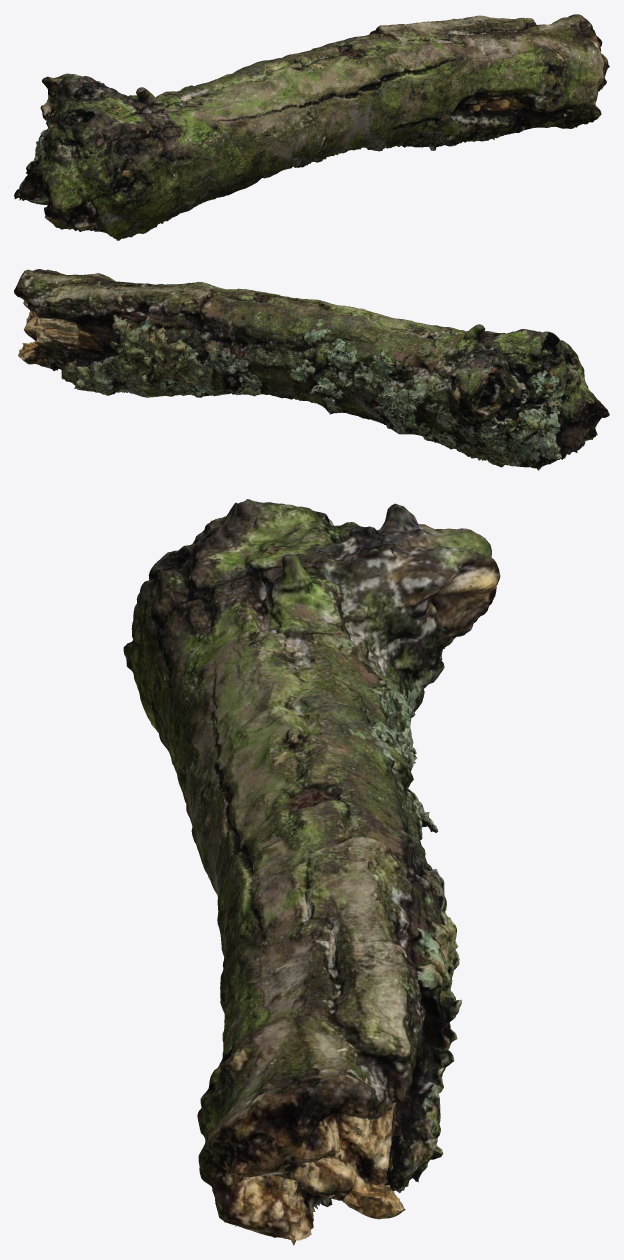
The model's file is branchbroken.glb.
3 views of the same model, one above another, from view 1: azimuth 30°, elevation 25°; view 2: azimuth 150°, elevation 25°; view 3: azimuth 270°, elevation 25° (orthographic). The views are drawn at different scales.
Visible parts, largest first — view 1: Object_2; view 2: Object_2; view 3: Object_2.
Boxes of the visible parts, left/top/right/bottom form: Object_2: left=14, top=14, right=609, bottom=240; Object_2: left=14, top=269, right=609, bottom=470; Object_2: left=123, top=499, right=500, bottom=1245.
Size of the model in its own units: 25.38 by 5.76 by 7.31.
1 material, 1 textured.
